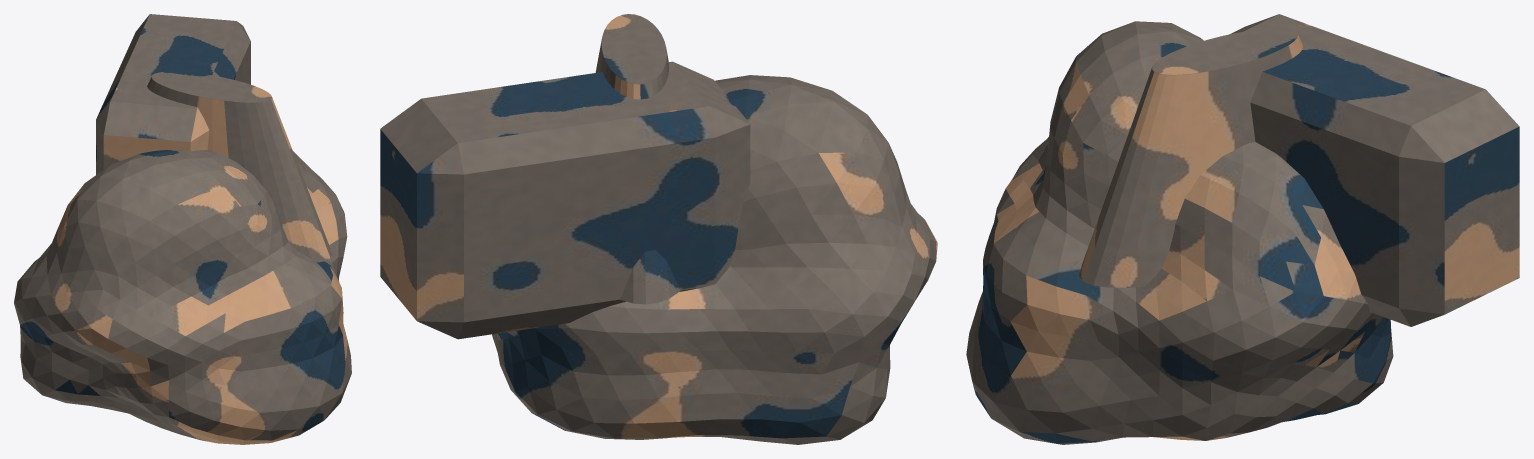
3 renders of one model, left to right at view 1: azimuth 30°, elevation 25°; view 2: azimuth 150°, elevation 25°; view 3: azimuth 270°, elevation 25°, orthographic. The views are drawn at different scales.
Parts seen in each view (by area): view 1: geometry_0; view 2: geometry_0; view 3: geometry_0.
Boxes of the visible parts, x1,y1,x2,y2 form: geometry_0: (14, 14, 351, 444); geometry_0: (380, 14, 937, 444); geometry_0: (966, 14, 1519, 444).
Bounding box in the file's own units: 1.55 × 1.34 × 1.7.
Materials: 1 (1 with a texture image).
